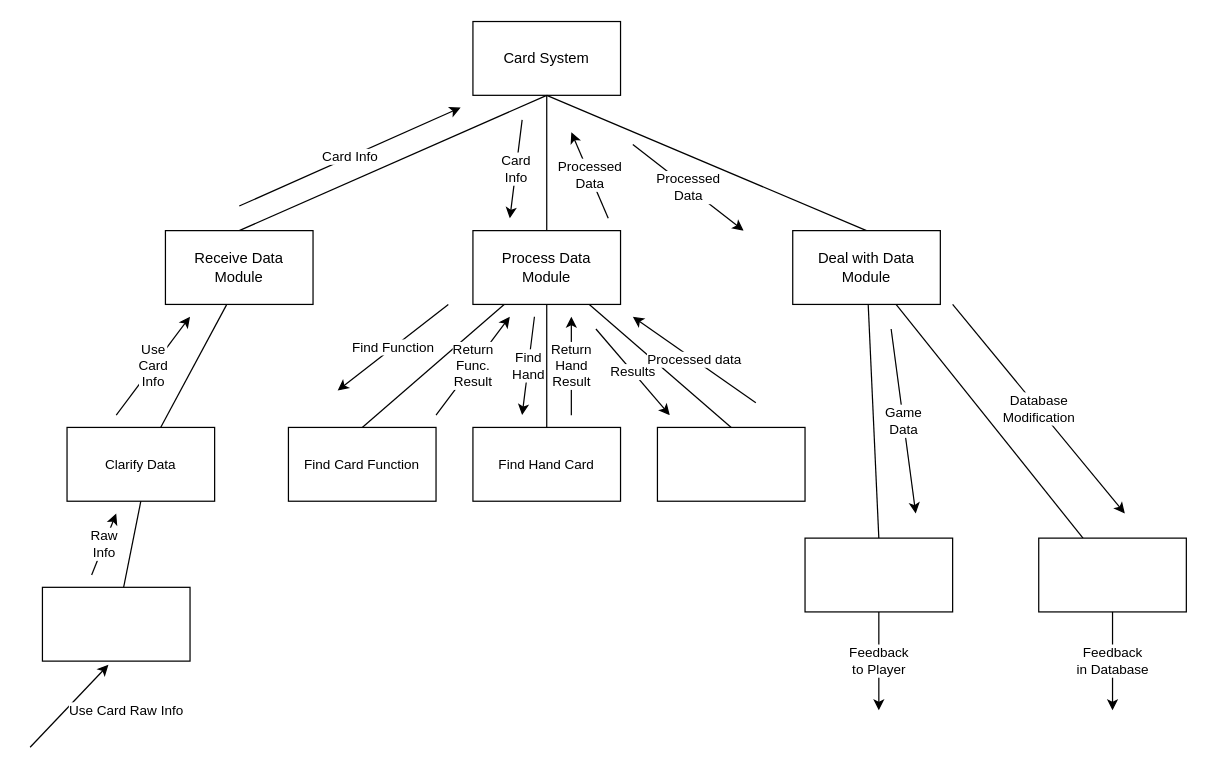
Image size: 1208x779. Some labels were removed from this diagram. The centre of each missing label's shape, as x and y in pixels:
Deal in Database: the point at 1112,574
Deal in game: the point at 878,574
Merge: the point at 730,463
Receiver: the point at 115,623
